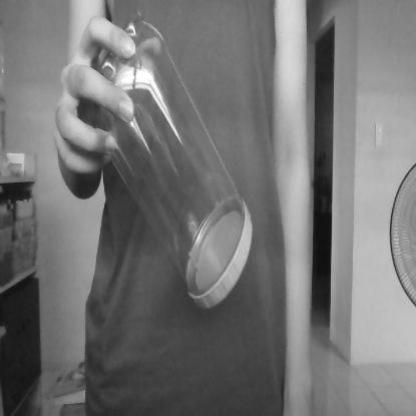Plastic Bottle: (90, 10, 258, 316)
